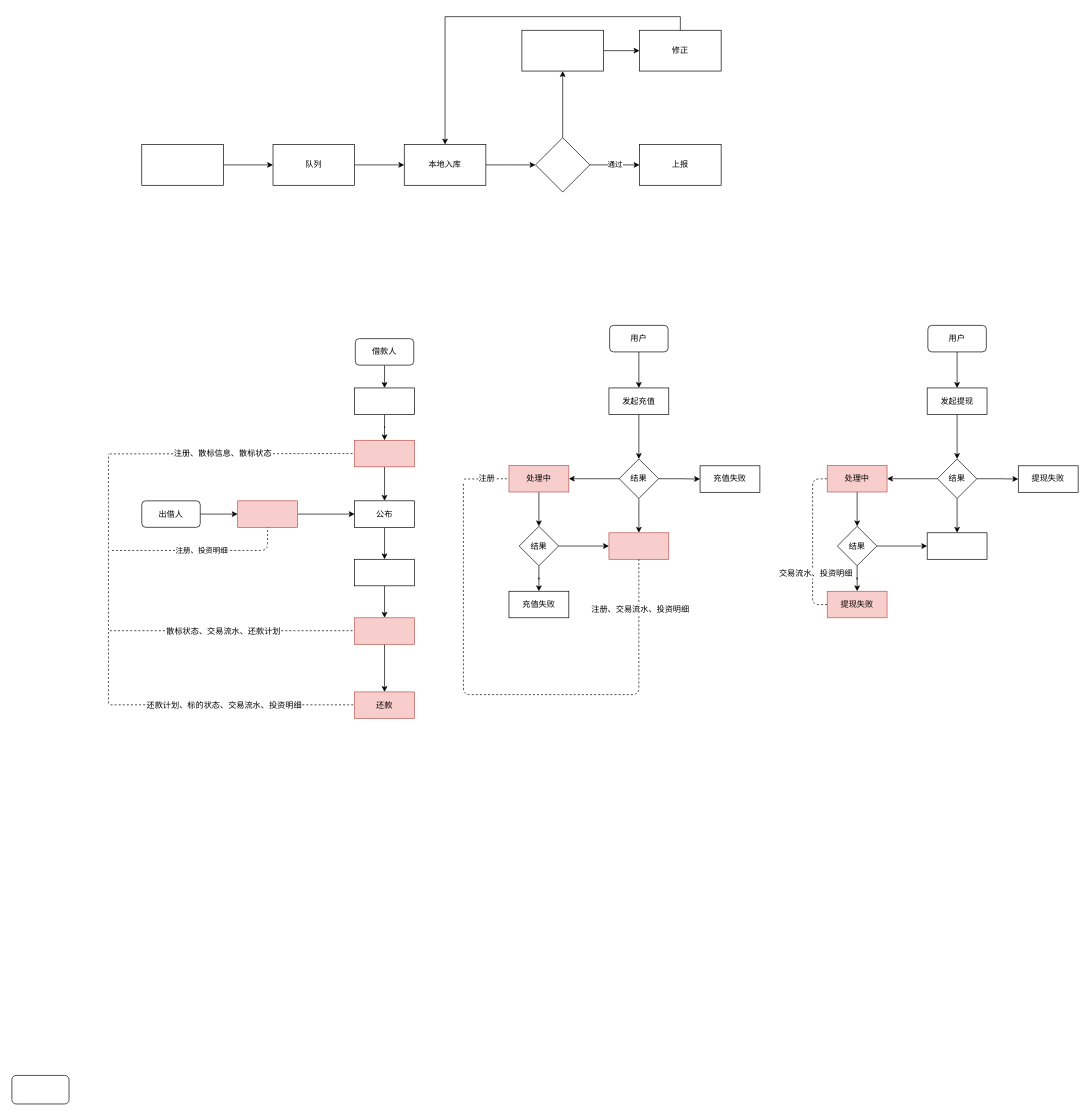
Some shapes in this 1090 by 1116 pixel diagram are drawn without their labels. The shapes that lost their labels are listed below. From the top down, each one's centre as x and y in pixels, then its label:
At [562,50]: "警报".
At [182,164]: "业务".
At [562,164]: "检测".
At [384,400]: "发标".
At [384,453]: "初审".
At [267,513]: "投标".
At [638,545]: "充值成功".
At [957,545]: "提现成功".
At [384,572]: "复审".
At [384,630]: "放款".
At [40,1089]: "借款表".
